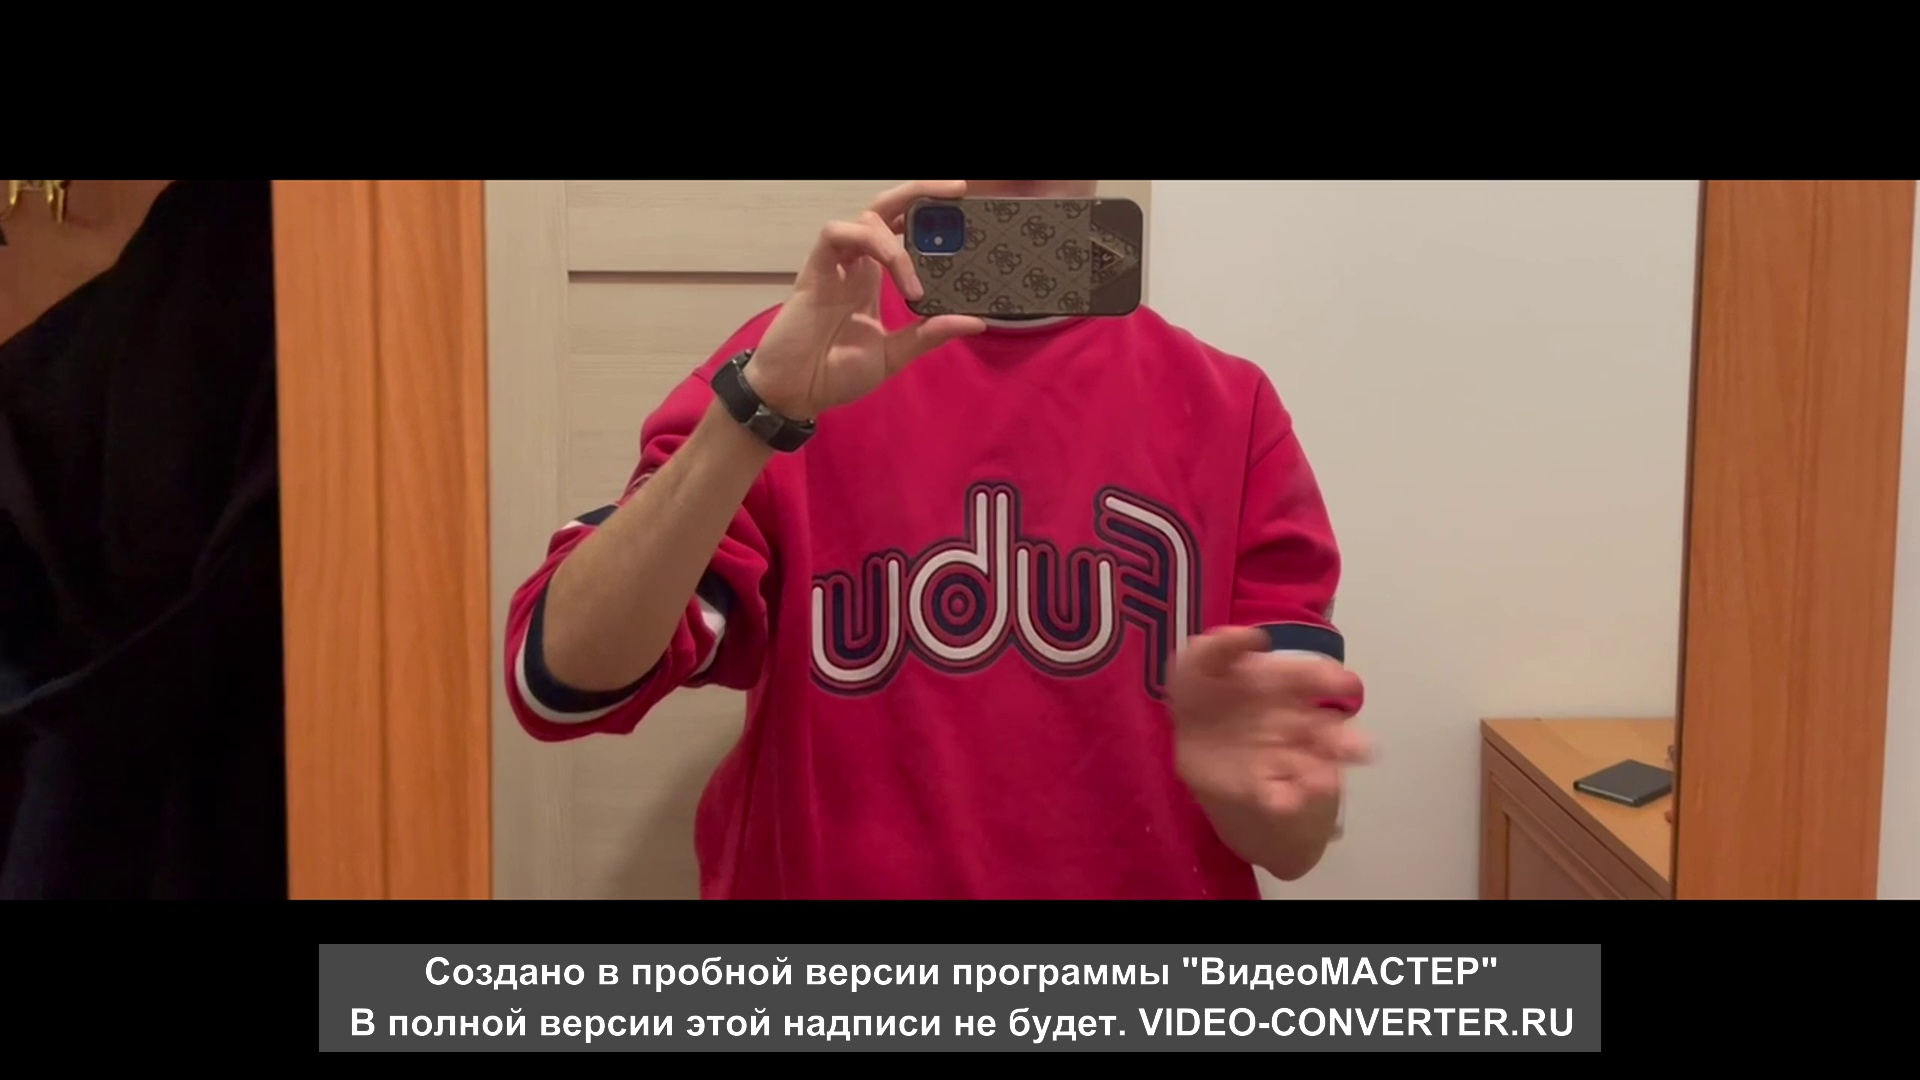Ладонь: (1170, 628, 1378, 820)
